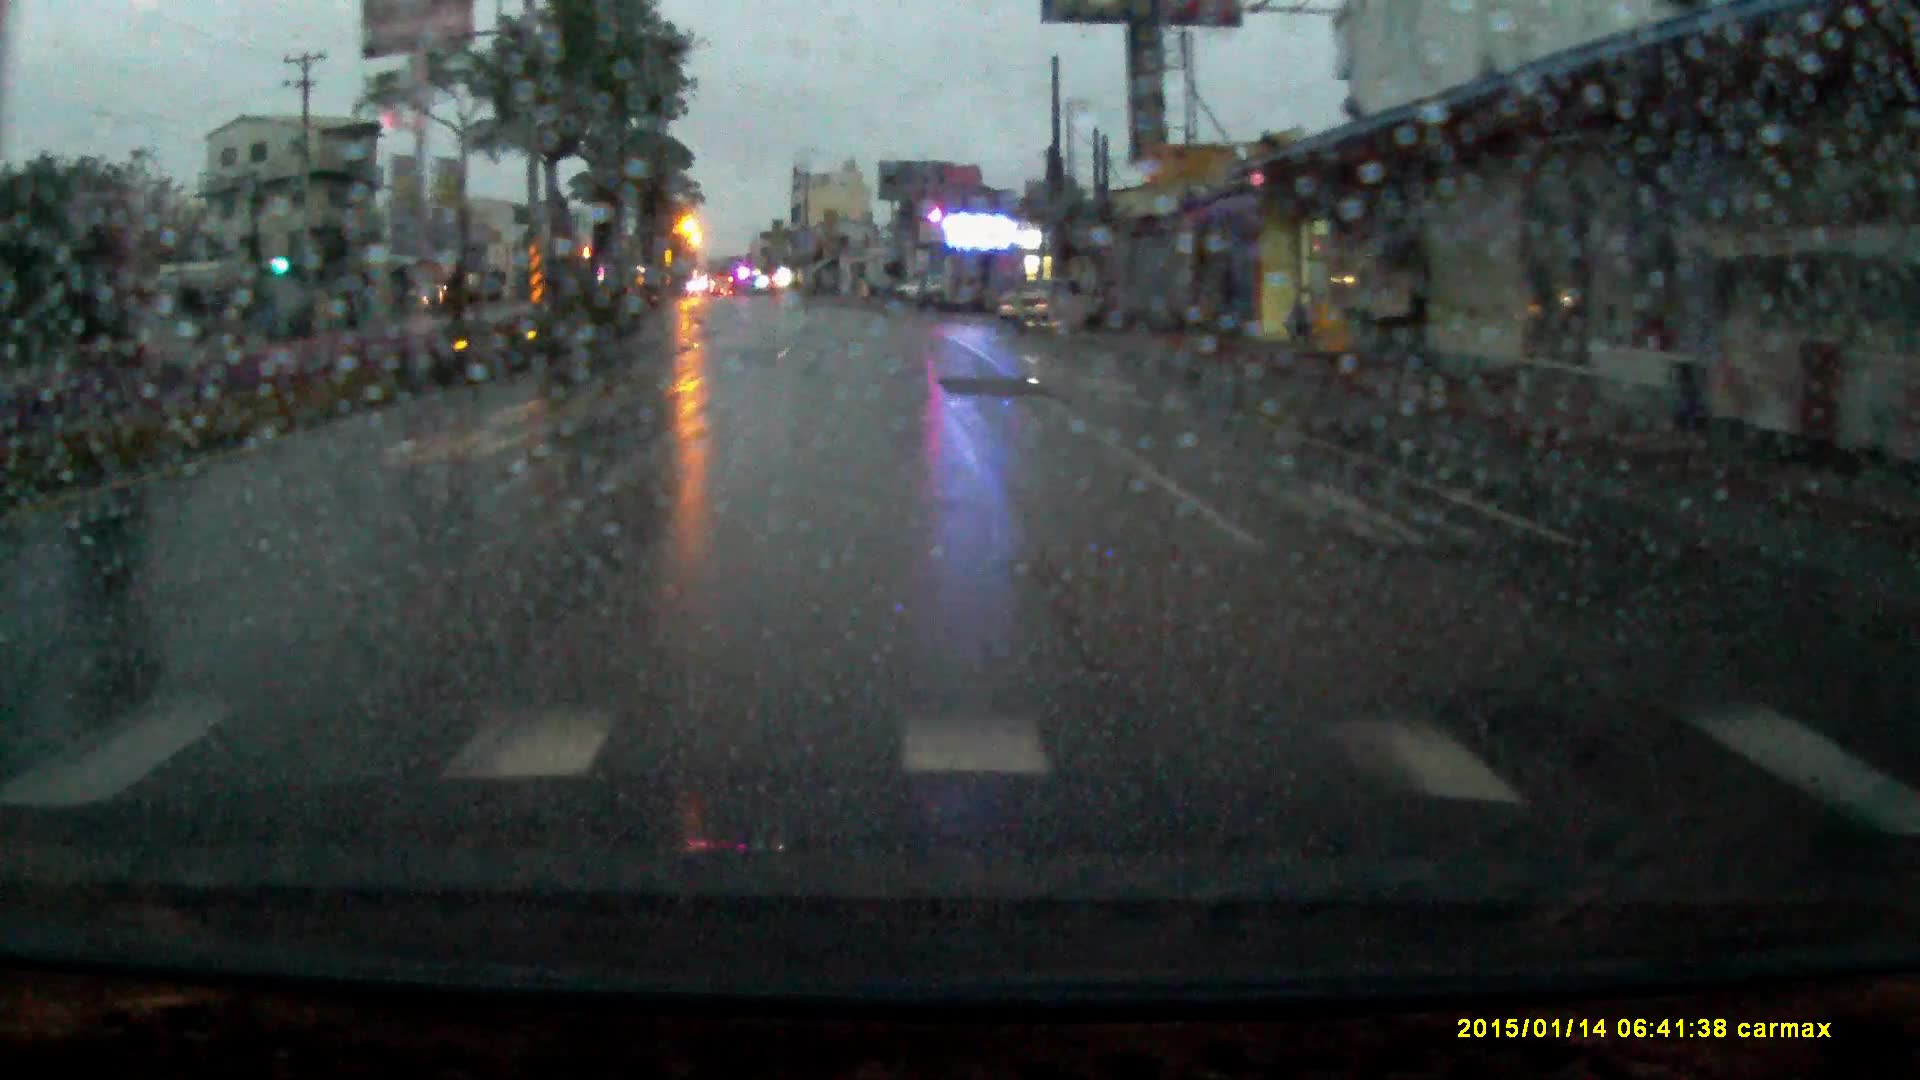vehicle: (1001, 287, 1091, 338), (894, 282, 945, 310)
